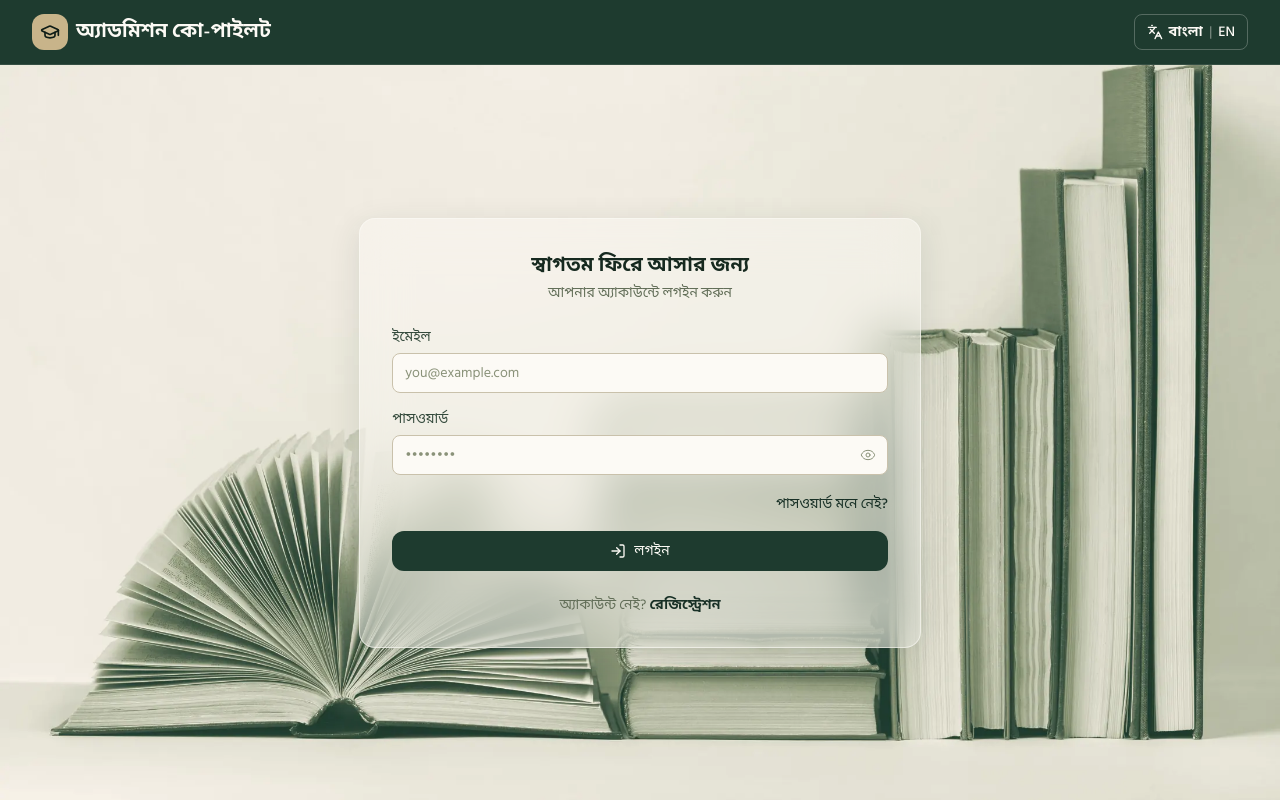
Test: LoginPage › shows an invalid-email error for a malformed address
Type "not-an-email" into the field labelled "ইমেইল" at [640, 372], box [392,352,888,392]
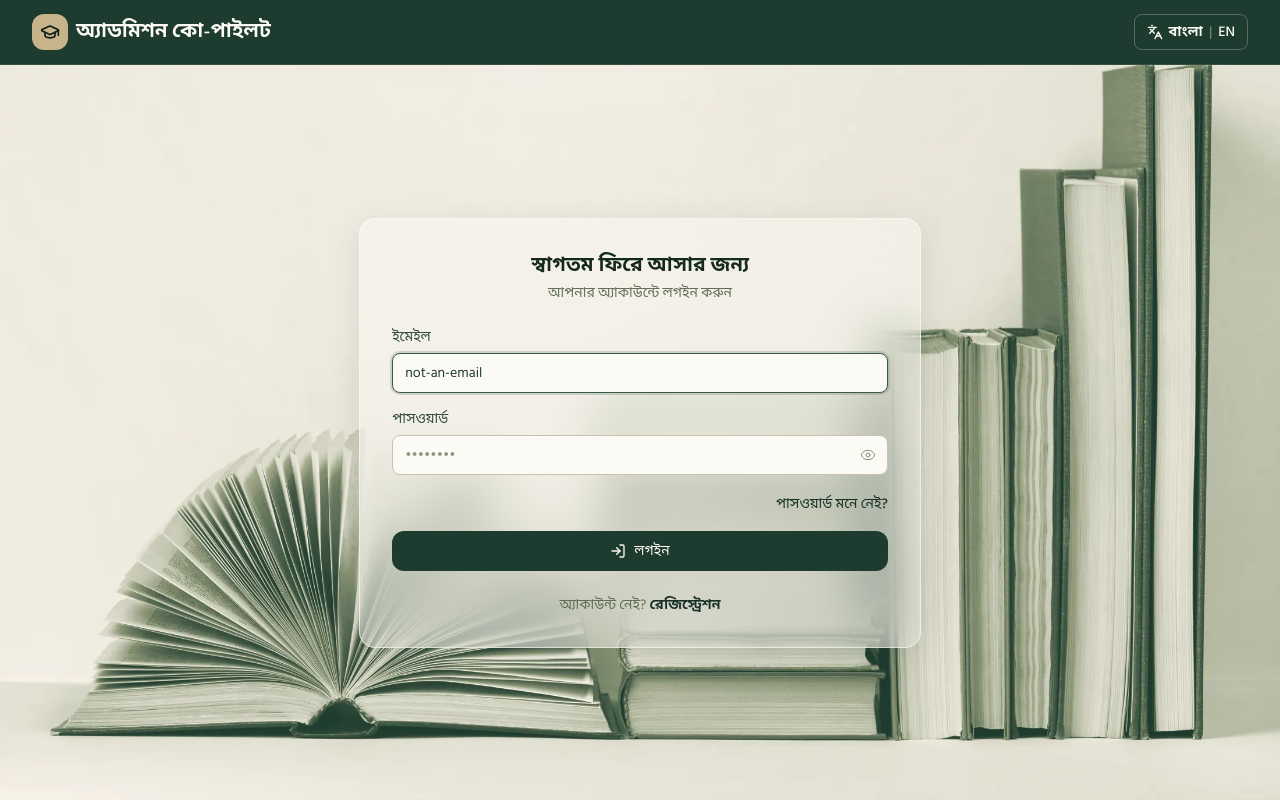
Type "password123" into the password field labelled "পাসওয়ার্ড" at [640, 454], box [392,434,888,474]
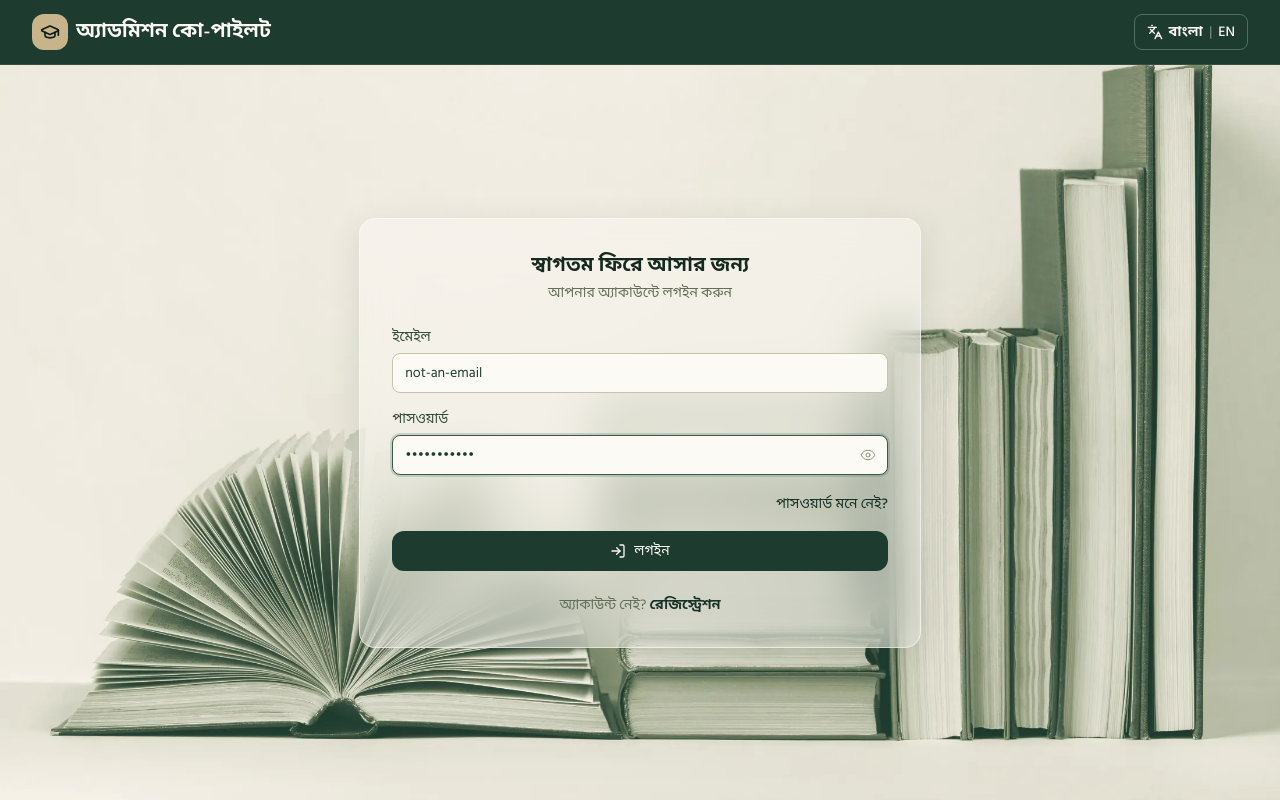
Click the button "লগইন" at [640, 550], box [392,530,888,570]
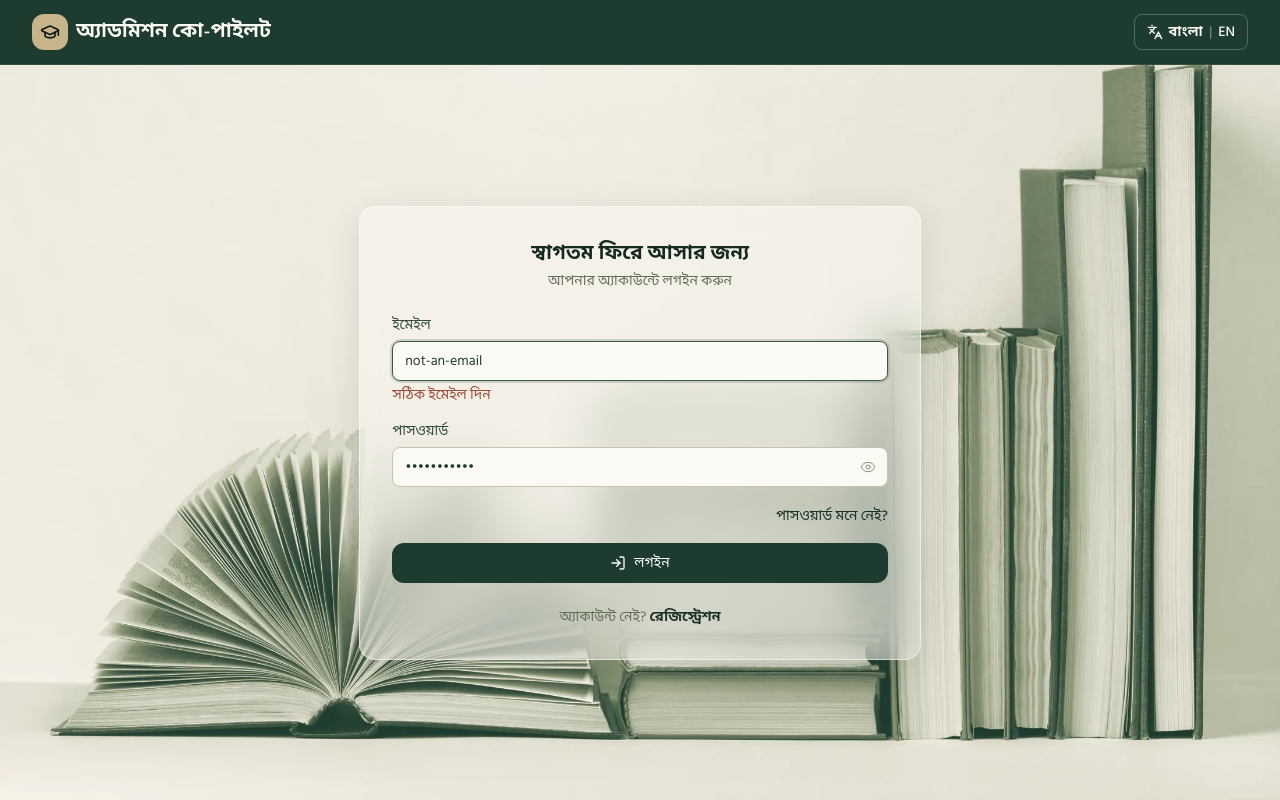
Now the text "সঠিক ইমেইল দিন" is shown, box [392,382,491,406]
